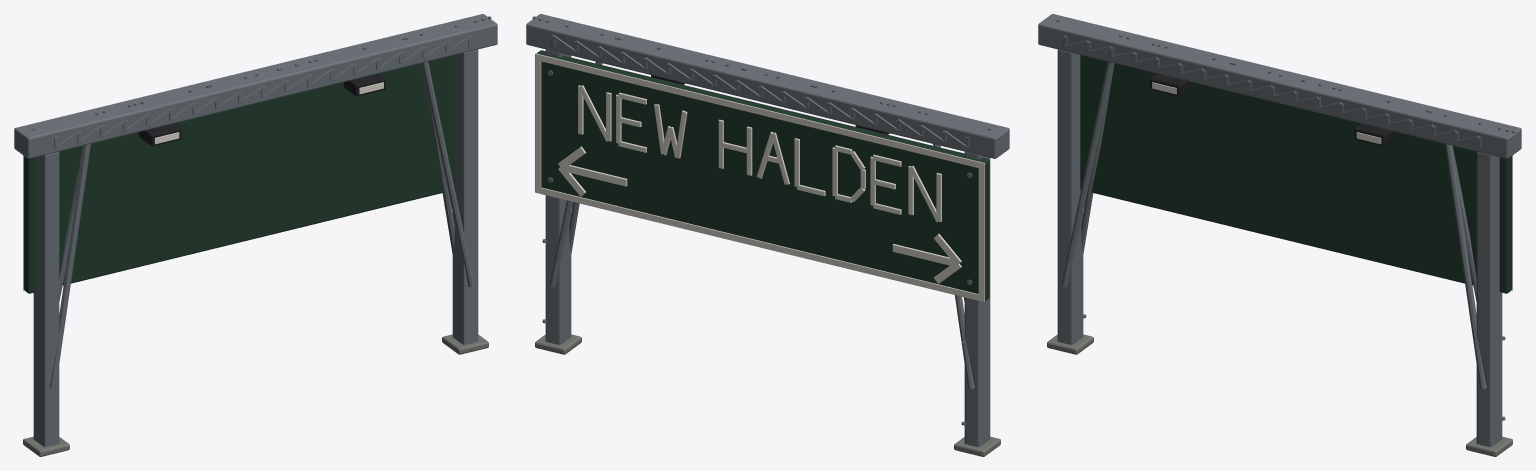
File: highway_sign_gantry.glb
The picture shows the model from 3 angles, left to right: view 1: azimuth 30°, elevation 25°; view 2: azimuth 150°, elevation 25°; view 3: azimuth 330°, elevation 25°; orthographic projection.
Parts seen in each view (by area): view 1: highway_sign_gantry; view 2: highway_sign_gantry; view 3: highway_sign_gantry.
Part boxes in pixels (x1,y1,x2,y2): highway_sign_gantry: [14, 14, 497, 456]; highway_sign_gantry: [526, 14, 1009, 456]; highway_sign_gantry: [1038, 14, 1521, 456].
Size of the model in its own units: 9.2 by 6.03 by 0.76.
Materials: 1 (1 with a texture image).
